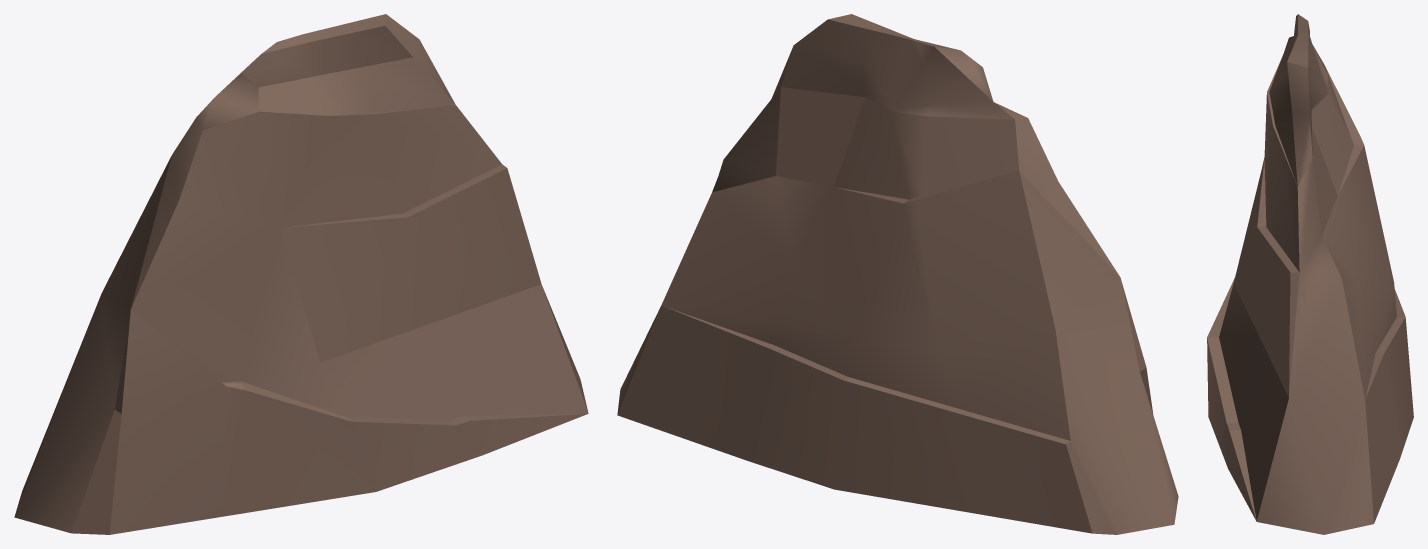
Rendered from Earthwall.fbx.
3 renders of one model, left to right at view 1: azimuth 30°, elevation 25°; view 2: azimuth 150°, elevation 25°; view 3: azimuth 270°, elevation 25°, orthographic. The views are drawn at different scales.
Visible parts, largest first — view 1: pCube1; view 2: pCube1; view 3: pCube1.
Part boxes in pixels (x1,y1,x2,y2): pCube1: (14, 14, 588, 534); pCube1: (617, 14, 1178, 534); pCube1: (1207, 14, 1413, 534).
Size of the model in its own units: 781 by 555 by 275.
